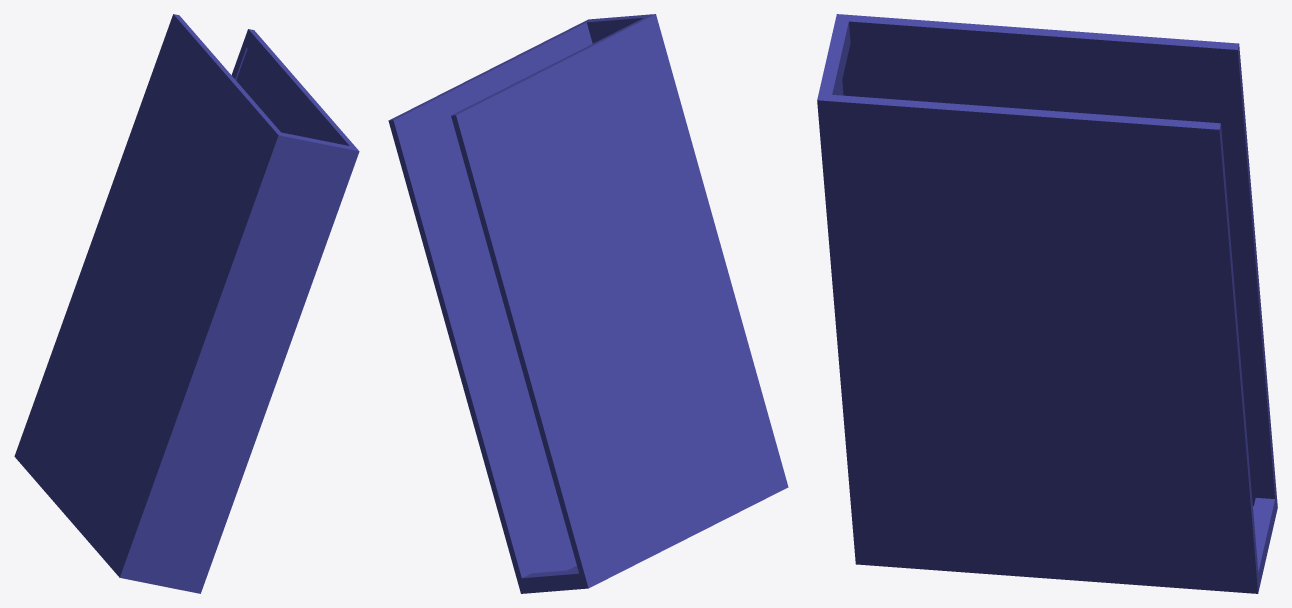
File: book.004_material.011_0_lev1.glb
The picture shows the model from 3 angles, left to right: view 1: azimuth 30°, elevation 25°; view 2: azimuth 150°, elevation 25°; view 3: azimuth 270°, elevation 25°; orthographic projection. The views are drawn at different scales.
Visible parts, largest first — view 1: book.004_material.011_0_lev1; view 2: book.004_material.011_0_lev1; view 3: book.004_material.011_0_lev1.
Part boxes in pixels (x1,y1,x2,y2): book.004_material.011_0_lev1: [14, 14, 359, 593]; book.004_material.011_0_lev1: [388, 14, 788, 593]; book.004_material.011_0_lev1: [817, 14, 1277, 593].
Bounding box in the file's own units: 9.99 × 16.2 × 11.34.
